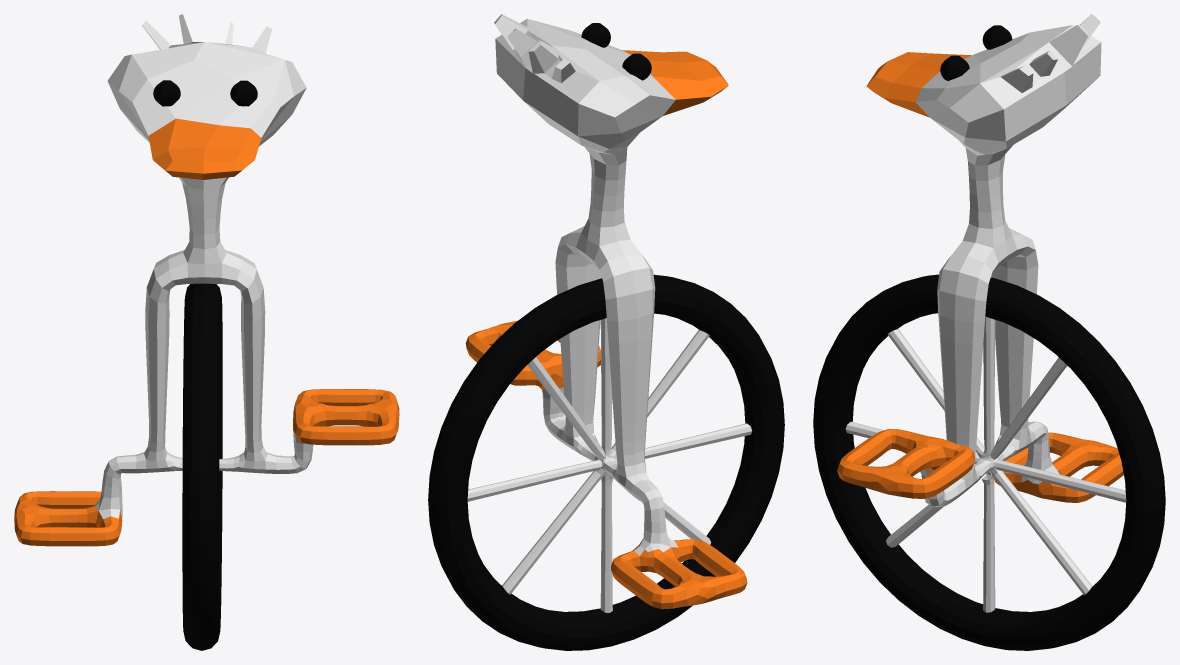
Rendered from kacsacikli.glb.
The picture shows the model from 3 angles, left to right: view 1: azimuth 30°, elevation 25°; view 2: azimuth 150°, elevation 25°; view 3: azimuth 270°, elevation 25°; orthographic projection. The views are drawn at different scales.
Parts seen in each view (by area): view 1: JamesMcMahon; view 2: JamesMcMahon; view 3: JamesMcMahon.
Part boxes in pixels (x1,y1,x2,y2): JamesMcMahon: [14, 14, 399, 650]; JamesMcMahon: [428, 14, 784, 650]; JamesMcMahon: [813, 14, 1165, 650].
Bounding box in the file's own units: 0.6185 × 1.09 × 0.5531.
